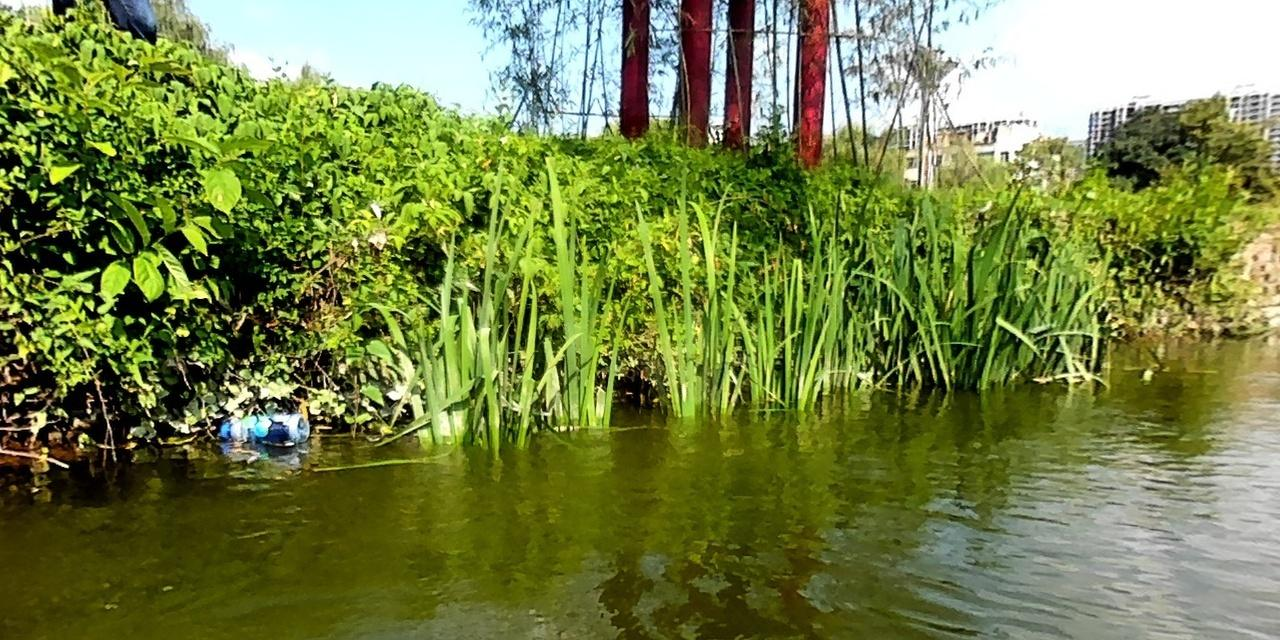bottle: (222, 414, 309, 445)
